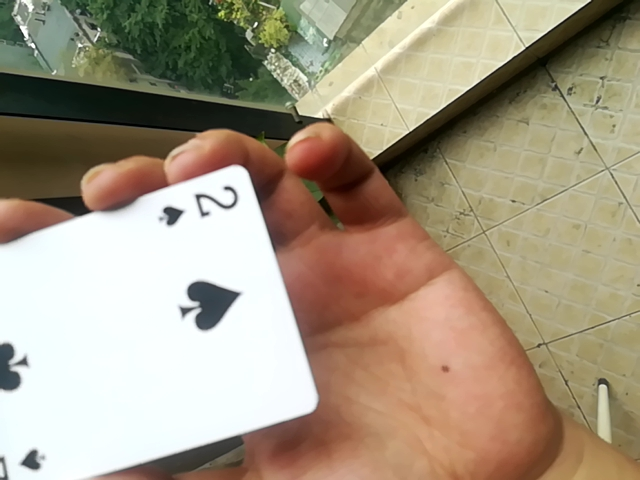ht 2: (1, 167, 313, 480)
